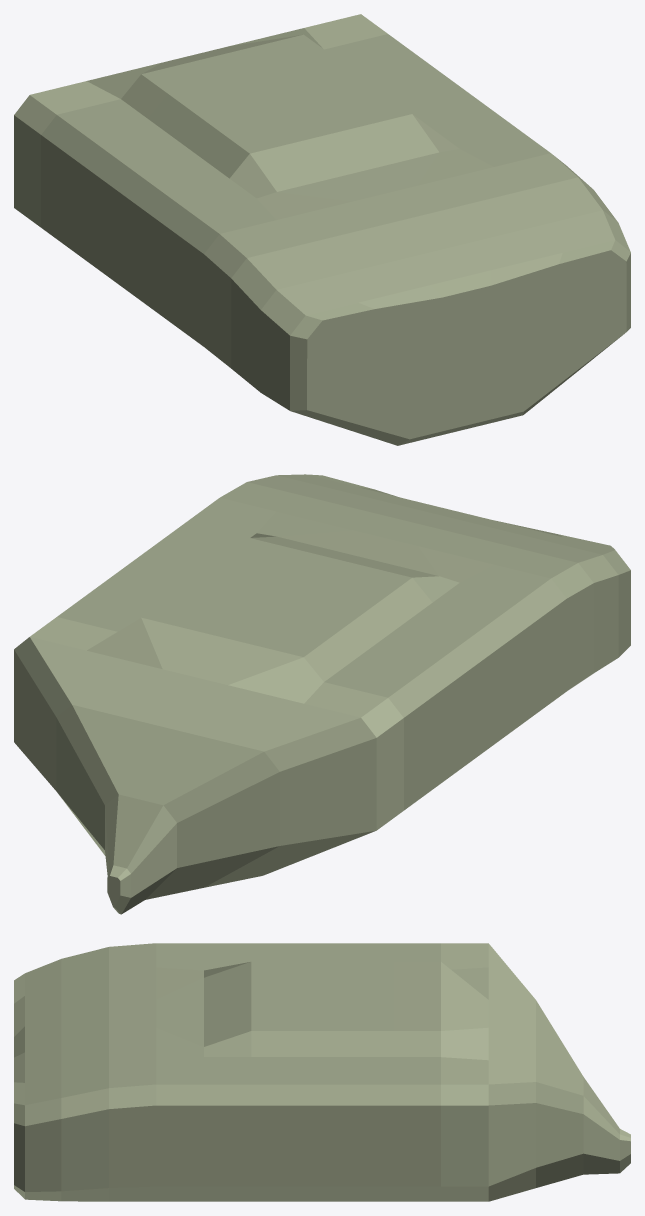
Rendered from hartmann_medium_a.glb.
The picture shows the model from 3 angles, top to bottom: view 1: azimuth 30°, elevation 25°; view 2: azimuth 150°, elevation 25°; view 3: azimuth 270°, elevation 25°; orthographic projection. The views are drawn at different scales.
Parts seen in each view (by area): view 1: hartmann_medium_a; view 2: hartmann_medium_a; view 3: hartmann_medium_a.
Boxes of the visible parts, x1,y1,x2,y2 form: hartmann_medium_a: (14,14,630,445); hartmann_medium_a: (14,474,630,914); hartmann_medium_a: (14,943,630,1201).
Size of the model in its own units: 3.5 by 1.86 by 5.9.
